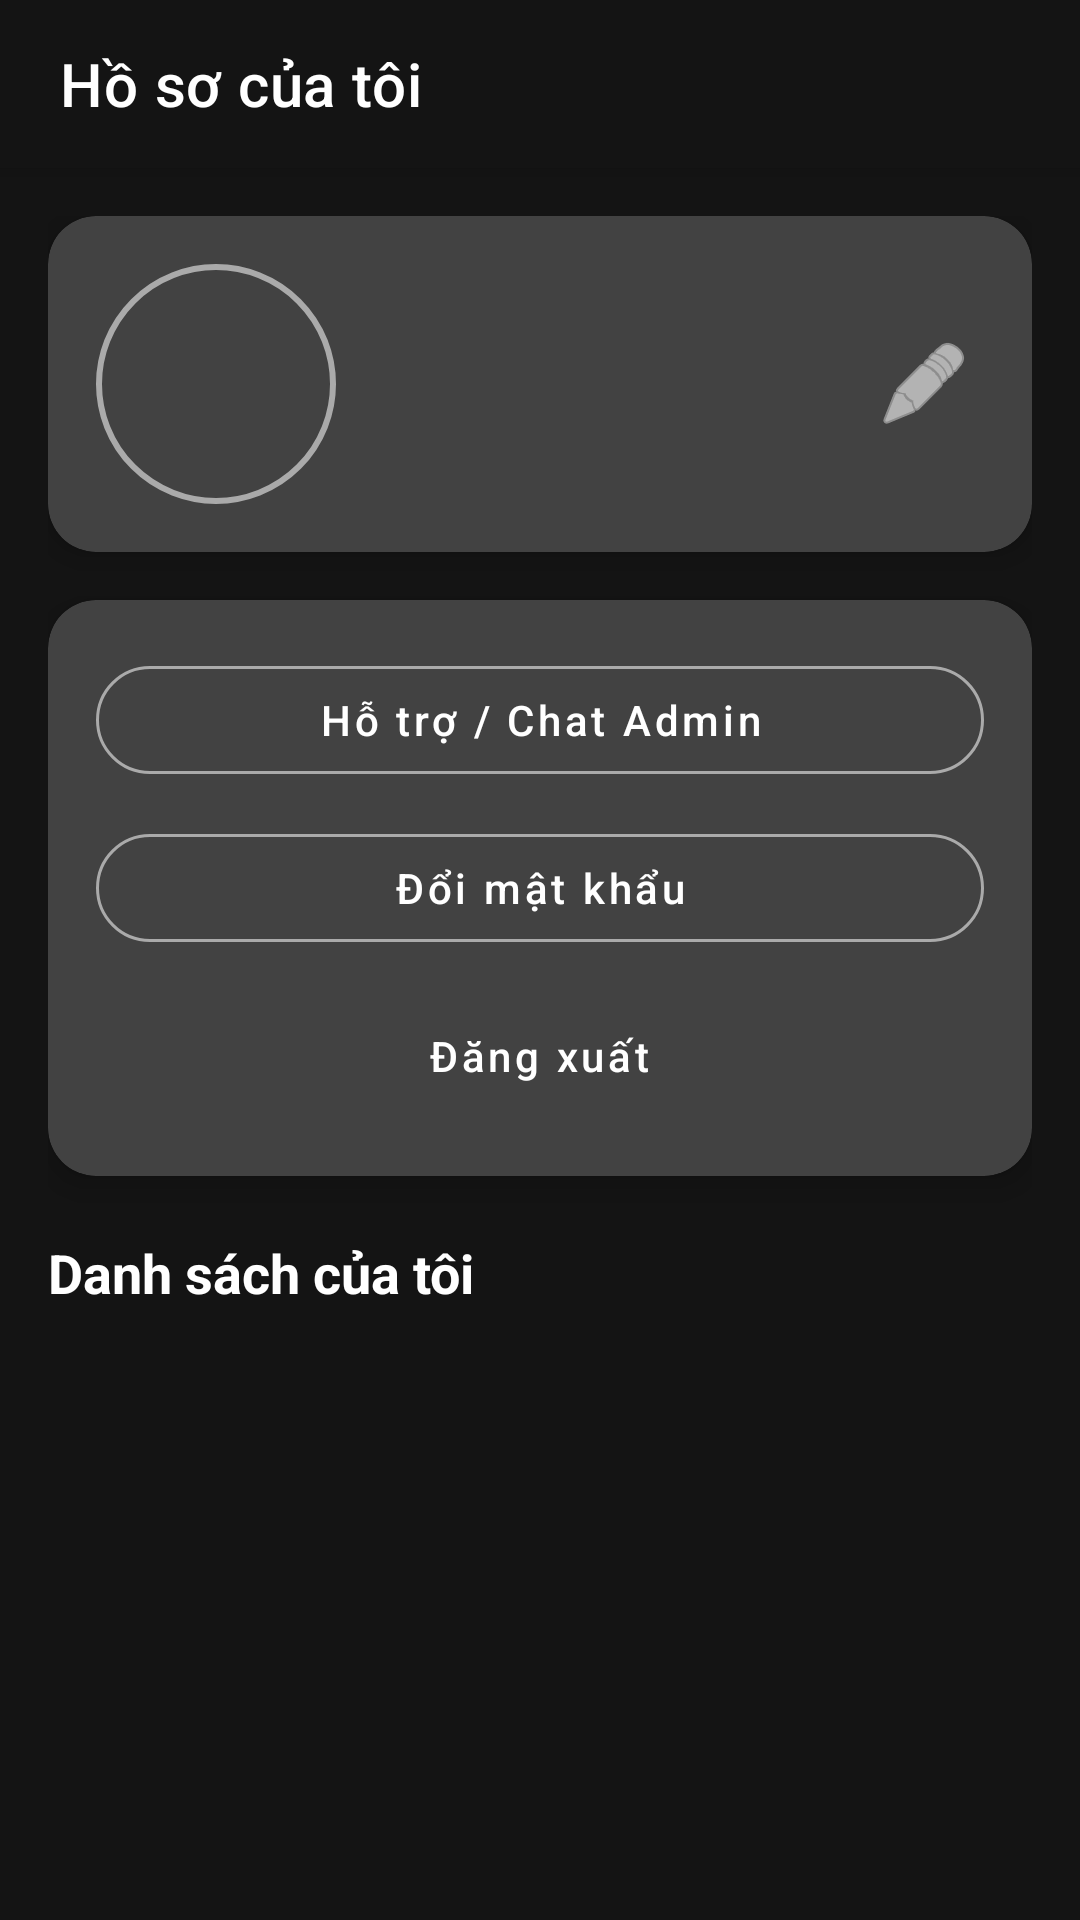

Named icons in this screenshot (1080w x 1920h) and their centers, (x,y):
edit: (923,383)
